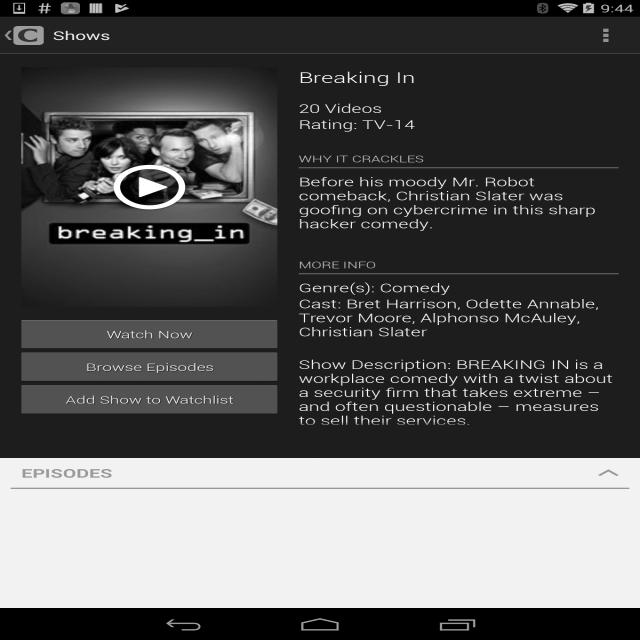Button: (21, 320, 278, 349), (21, 353, 278, 382)
CheckedTextView: (11, 458, 629, 488)
ImageButton: (109, 162, 190, 212), (571, 16, 640, 54)
ImageView: (21, 67, 278, 307), (298, 54, 618, 61), (298, 421, 618, 428), (13, 26, 44, 45), (0, 30, 17, 41)
TextView: (298, 356, 618, 428), (298, 174, 618, 232), (298, 296, 618, 340), (299, 280, 450, 296), (298, 67, 416, 87), (298, 116, 416, 132), (298, 152, 424, 165), (299, 100, 382, 116), (299, 258, 376, 271), (48, 27, 110, 43)
